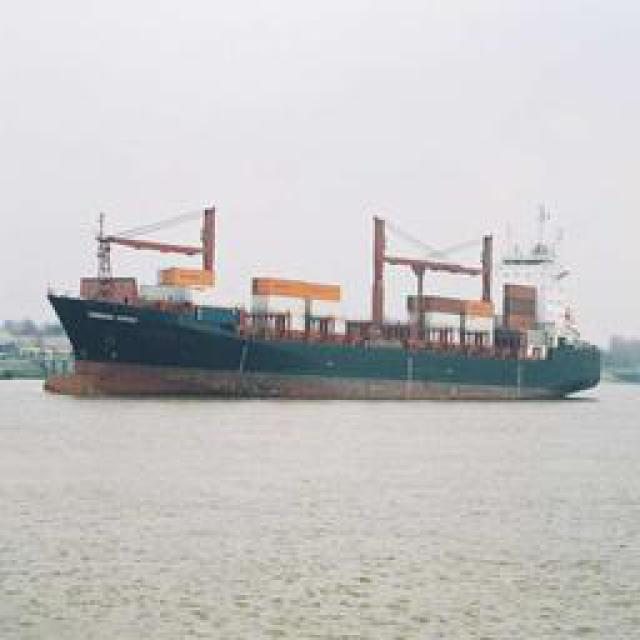Ship: (46, 200, 614, 403)
